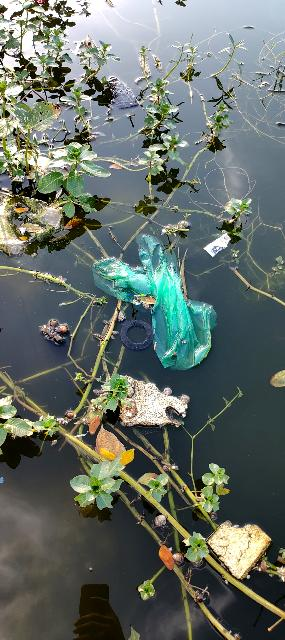polythene: (93, 231, 220, 365)
